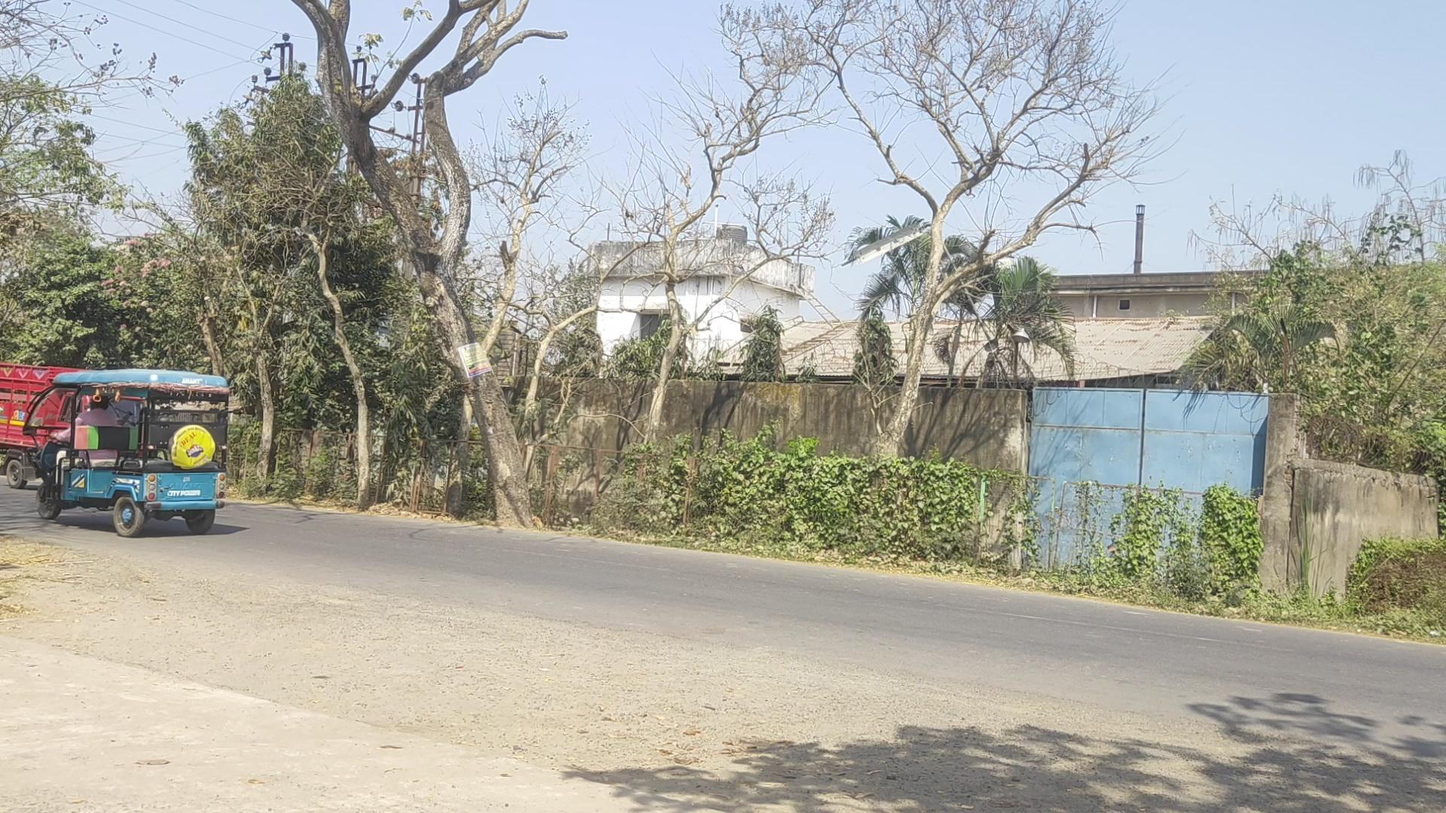Auto: (23, 370, 230, 538)
van: (1, 361, 150, 490)
